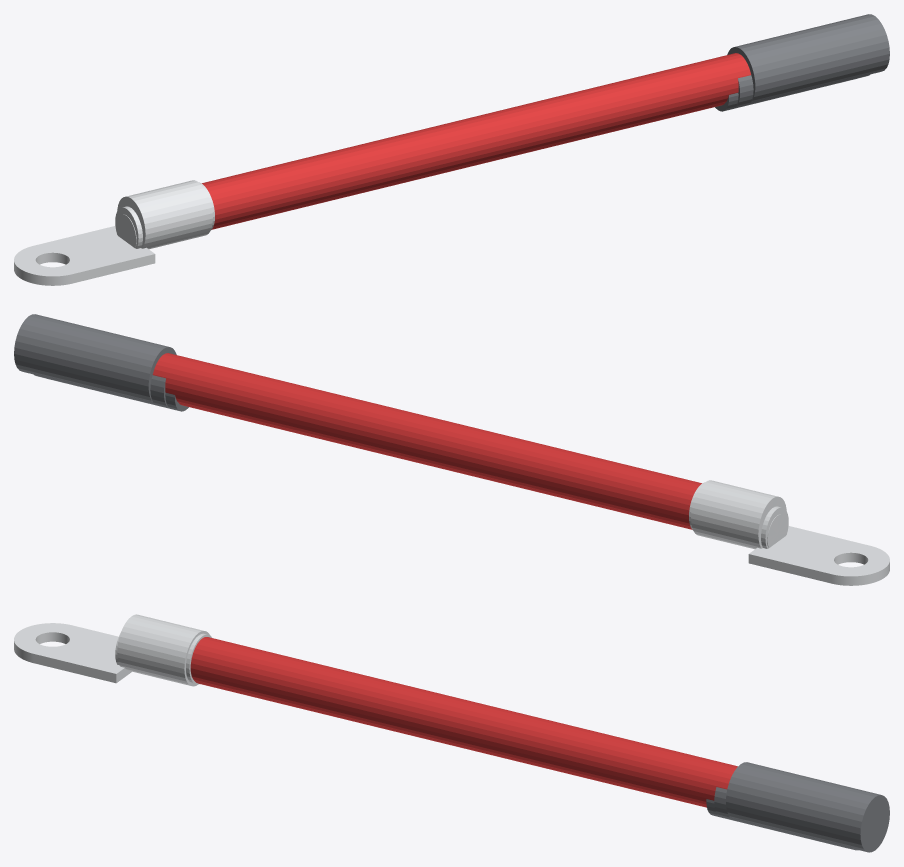
File: lug-516-pos.glb
3 views of the same model, one above another, from view 1: azimuth 30°, elevation 25°; view 2: azimuth 150°, elevation 25°; view 3: azimuth 330°, elevation 25° (orthographic).
Visible parts, largest first — view 1: cable_2awg, lug_2awg, joint_2awg, cable_4awg, joint_4awg, lug_4awg; view 2: cable_2awg, lug_2awg, joint_2awg, cable_4awg, joint_4awg, lug_4awg; view 3: cable_2awg, joint_2awg, lug_2awg, cable_4awg, joint_4awg.
Boxes of the visible parts, left/top/right/bottom form: cable_2awg: left=202, top=53, right=751, bottom=227; lug_2awg: left=14, top=180, right=214, bottom=285; joint_2awg: left=727, top=14, right=889, bottom=102; cable_4awg: left=212, top=103, right=724, bottom=229; joint_4awg: left=734, top=73, right=871, bottom=108; lug_4awg: left=36, top=206, right=142, bottom=264; cable_2awg: left=152, top=353, right=701, bottom=527; lug_2awg: left=689, top=480, right=889, bottom=585; joint_2awg: left=14, top=314, right=176, bottom=402; cable_4awg: left=179, top=403, right=691, bottom=529; joint_4awg: left=32, top=373, right=169, bottom=408; lug_4awg: left=761, top=506, right=867, bottom=564; cable_2awg: left=190, top=637, right=737, bottom=805; joint_2awg: left=726, top=762, right=889, bottom=852; lug_2awg: left=14, top=614, right=211, bottom=686; cable_4awg: left=195, top=681, right=706, bottom=807; joint_4awg: left=714, top=787, right=858, bottom=850.
Size of the model in its own units: 0.2423 by 0.015 by 0.0191.
